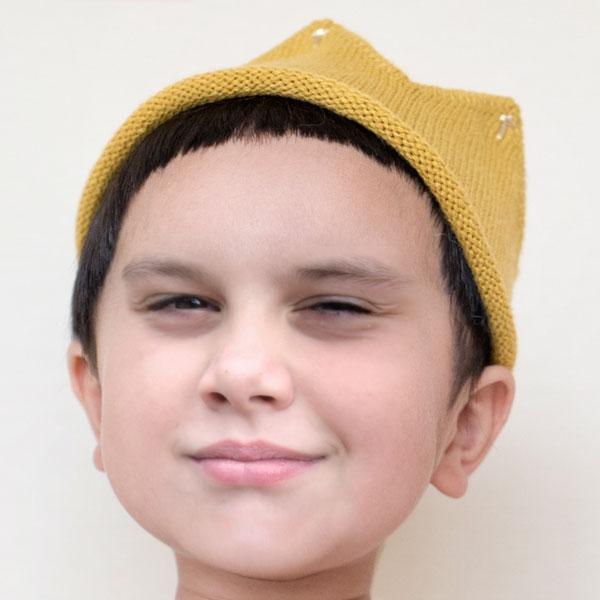Eyes: (274, 275, 401, 352), (127, 271, 235, 339)
